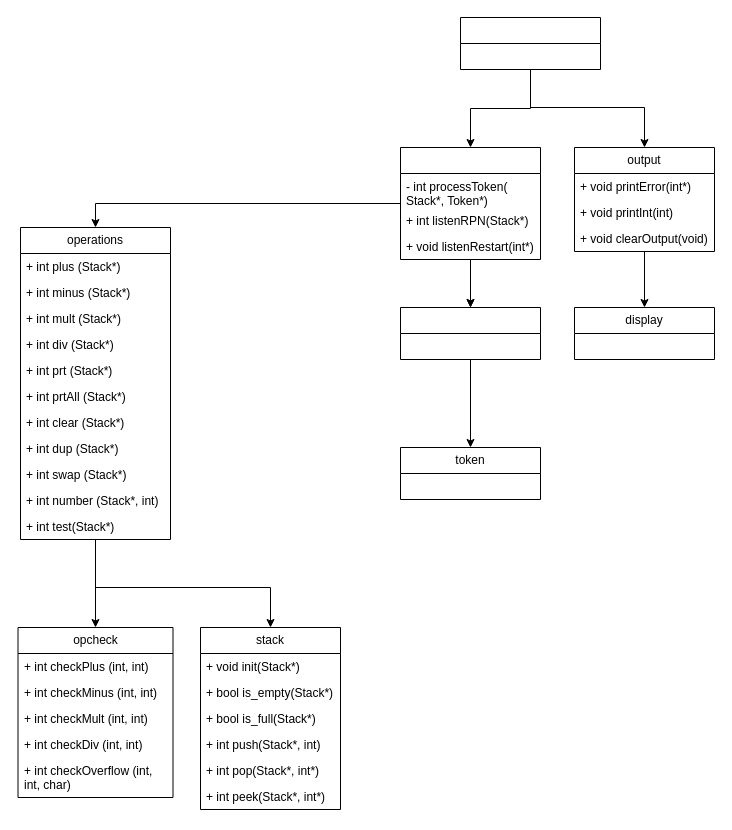
This 732x830 diagram has some shape labels left out. The shapes that lost their labels are listed below. From the top down, each one's box as (x1, y1, x2, y2) in pixels, then its label:
(460, 16, 600, 70): main
(400, 146, 540, 260): input
(400, 306, 540, 360): scanner
